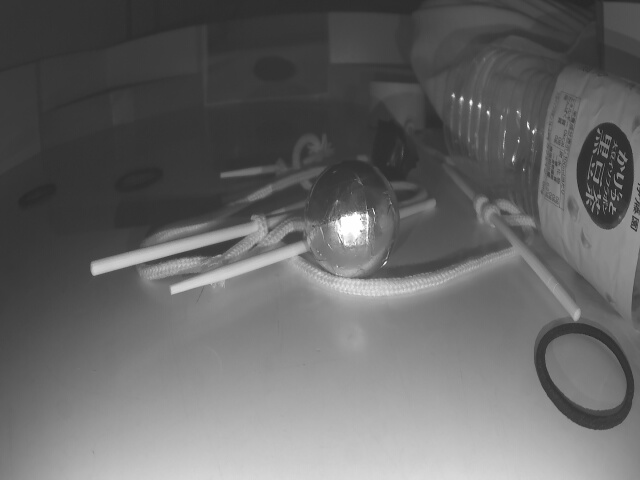Dead: (372, 118, 414, 175)
Live: (306, 161, 397, 281)
Point: (43, 74, 203, 150), (334, 65, 432, 108)
